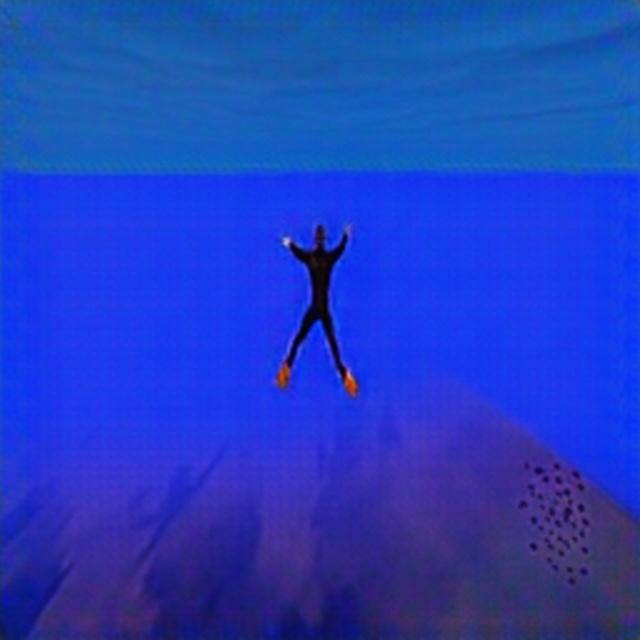diver: (273, 218, 360, 399)
